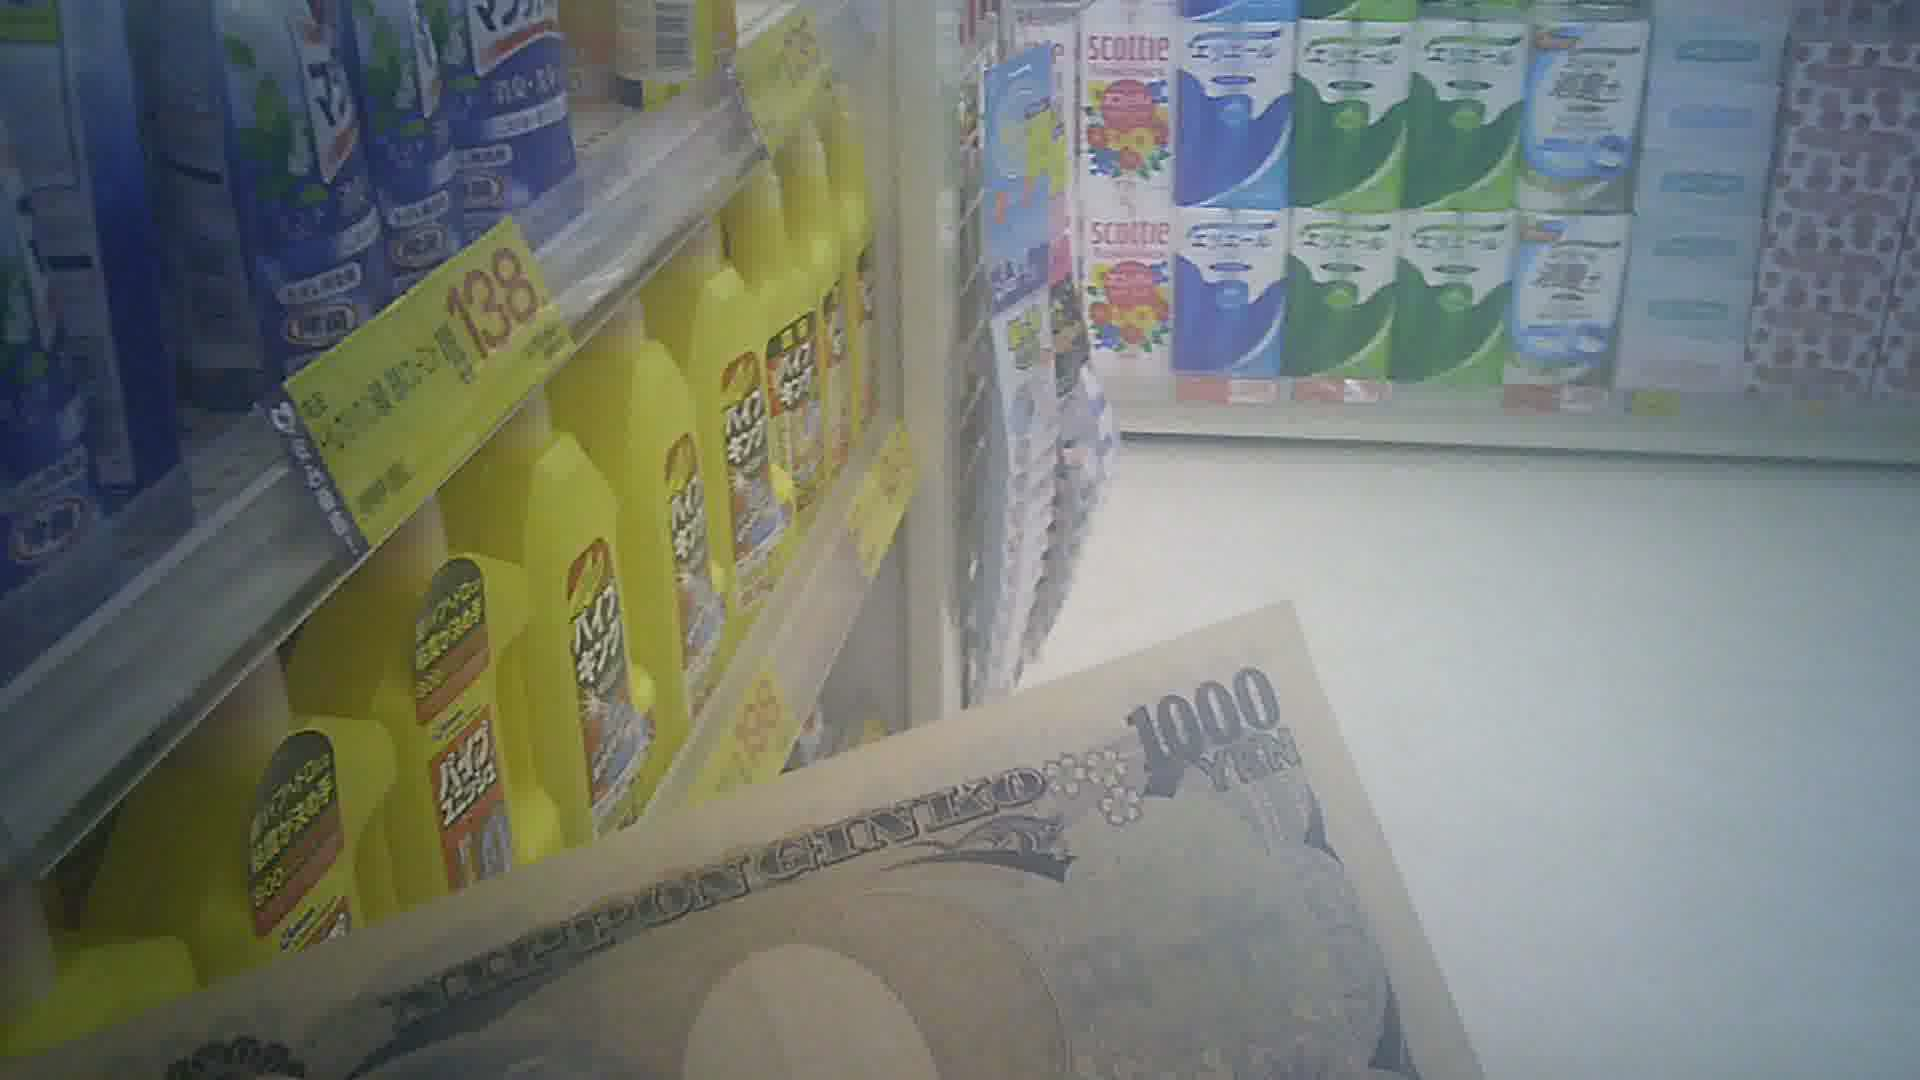1,000 Yen: (109, 582, 1480, 1079)
